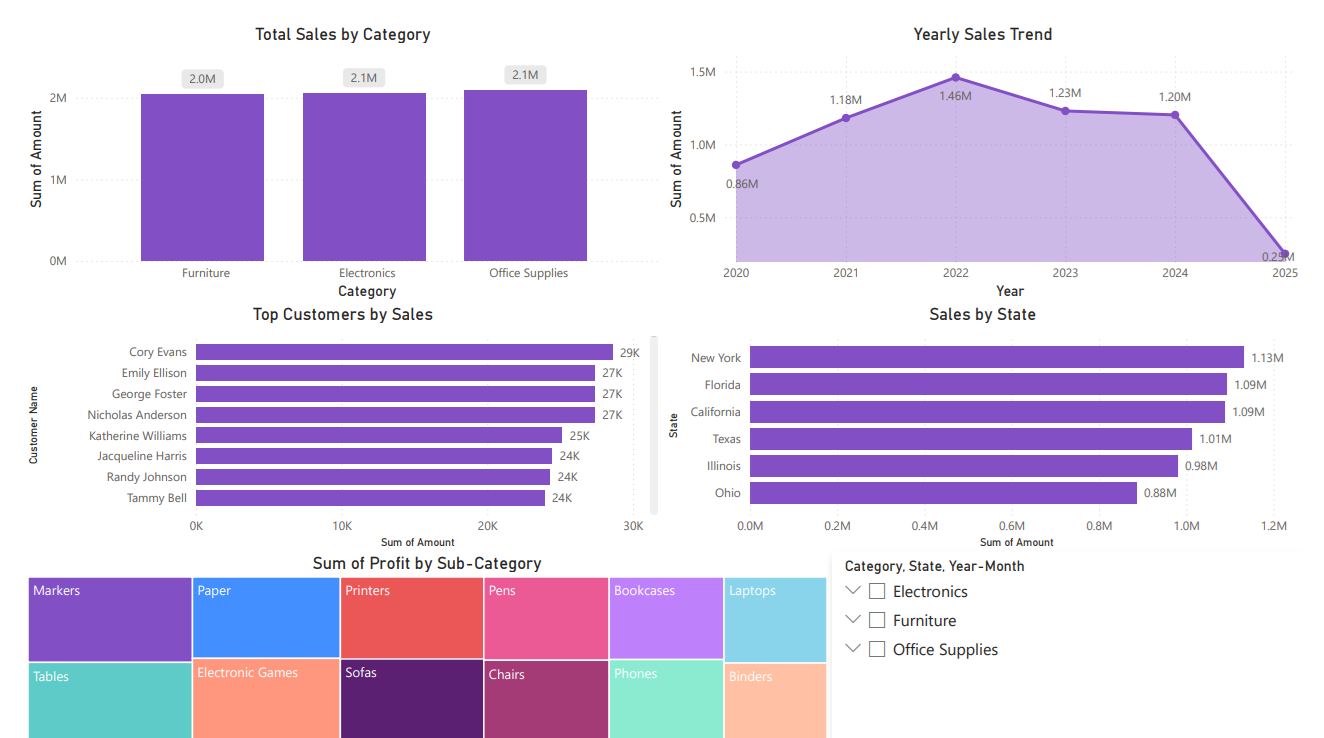

What the dashboard file says about the page in this screenshot:
{"tool":"powerbi","page":{"name":"Page 1","canvas":[1280,720],"ordinal":0},"visuals":[{"type":"clusteredColumnChart","title":"Total Sales by Category","fields":{"Y":["Sum(Sales Dataset.Amount)"],"Category":["Sales Dataset.Category"]},"box":[0,0,640,280.1],"z":0},{"type":"lineChart","title":"Yearly Sales Trend","fields":{"Category":["Sales Dataset.Year-Month.Variation.Date Hierarchy.Year"],"Y":["Sum(Sales Dataset.Amount)"]},"box":[640,0,640,280.1],"z":1000},{"type":"clusteredBarChart","title":"Top Customers by Sales","fields":{"Category":["Sales Dataset.CustomerName"],"Y":["Sum(Sales Dataset.Amount)"]},"box":[0,280.1,640,248.7],"z":2000},{"type":"treemap","fields":{"Group":["Sales Dataset.Sub-Category"],"Values":["Sum(Sales Dataset.Profit)"]},"box":[0,529.4,808.8,190.4],"z":3000},{"type":"slicer","fields":{"Values":["Sales Dataset.Category","Sales Dataset.State","Sales Dataset.Year-Month"]},"box":[808.8,529.4,471.2,190.4],"z":4000},{"type":"barChart","title":"Sales by State","fields":{"Category":["Sales Dataset.State"],"Y":["Sum(Sales Dataset.Amount)"]},"box":[640,280.1,640,248.7],"z":4001}]}

Visuals, with their boxes in screenshot pixels (x1, y1, x2, y2), scaled from the page's 1280x720 canvas onto the 1324x738 screenshot:
"Total Sales by Category" clusteredColumnChart: box(0, 0, 662, 287)
"Yearly Sales Trend" lineChart: box(662, 0, 1323, 287)
"Top Customers by Sales" clusteredBarChart: box(0, 287, 662, 542)
treemap - Sales Dataset.Sub-Category x Sum(Sales Dataset.Profit): box(0, 543, 837, 737)
slicer - Sales Dataset.Category x Sales Dataset.State: box(837, 543, 1323, 737)
"Sales by State" barChart: box(662, 287, 1323, 542)
